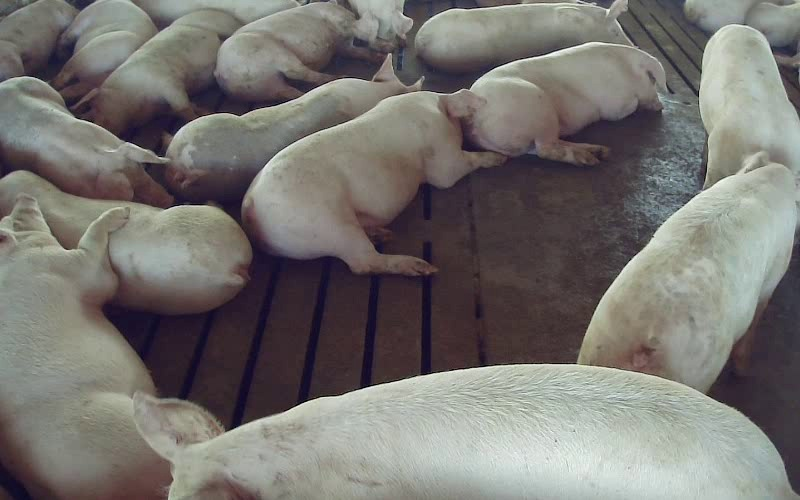pig: (134, 364, 796, 499), (578, 152, 796, 391), (0, 195, 170, 499), (242, 90, 504, 275), (165, 54, 422, 199), (465, 42, 665, 164), (73, 9, 240, 135), (215, 2, 383, 101), (699, 25, 799, 187), (0, 0, 77, 81)
